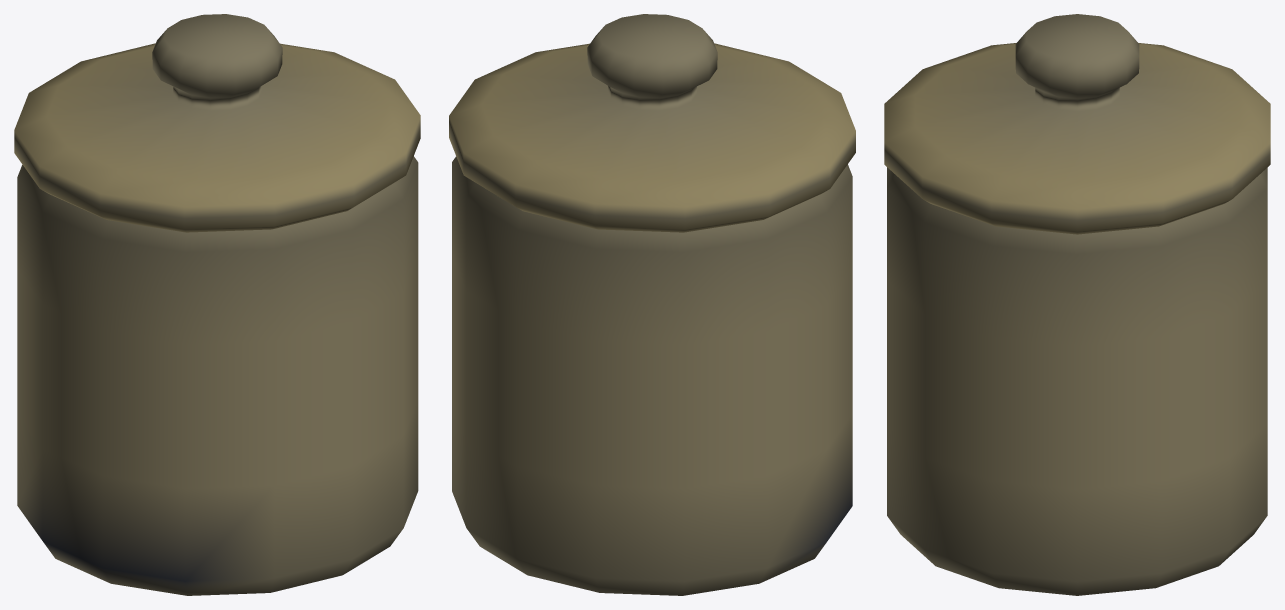
File: sugarJar.fbx
3 views of the same model, side by side, from view 1: azimuth 30°, elevation 25°; view 2: azimuth 150°, elevation 25°; view 3: azimuth 270°, elevation 25° (orthographic).
Visible parts, largest first — view 1: sugarJar; view 2: sugarJar; view 3: sugarJar.
Boxes of the visible parts, x1,y1,x2,y2 form: sugarJar: (14, 14, 420, 595); sugarJar: (449, 14, 855, 595); sugarJar: (884, 14, 1270, 595).
Bounding box in the file's own units: 207 × 270 × 196.
